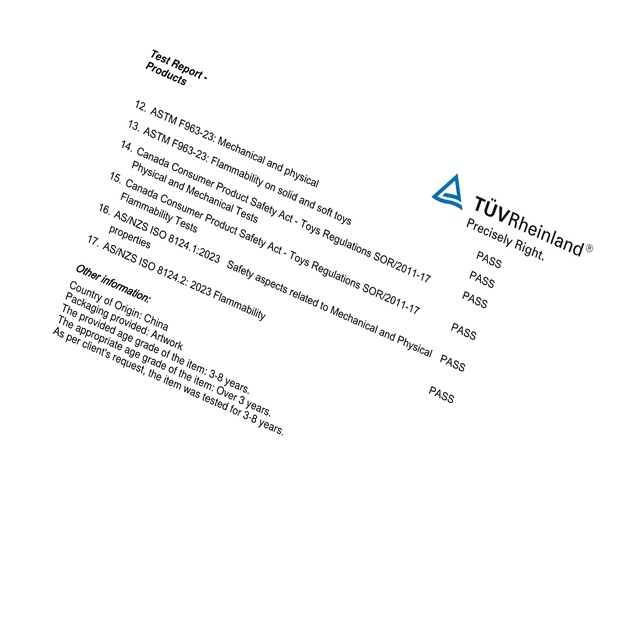tuv_rheinland: (431, 171, 597, 269)
